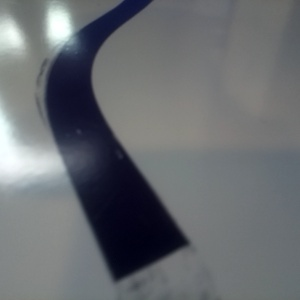bottom_right: (141, 61, 228, 88)
top_right: (142, 45, 214, 66)
